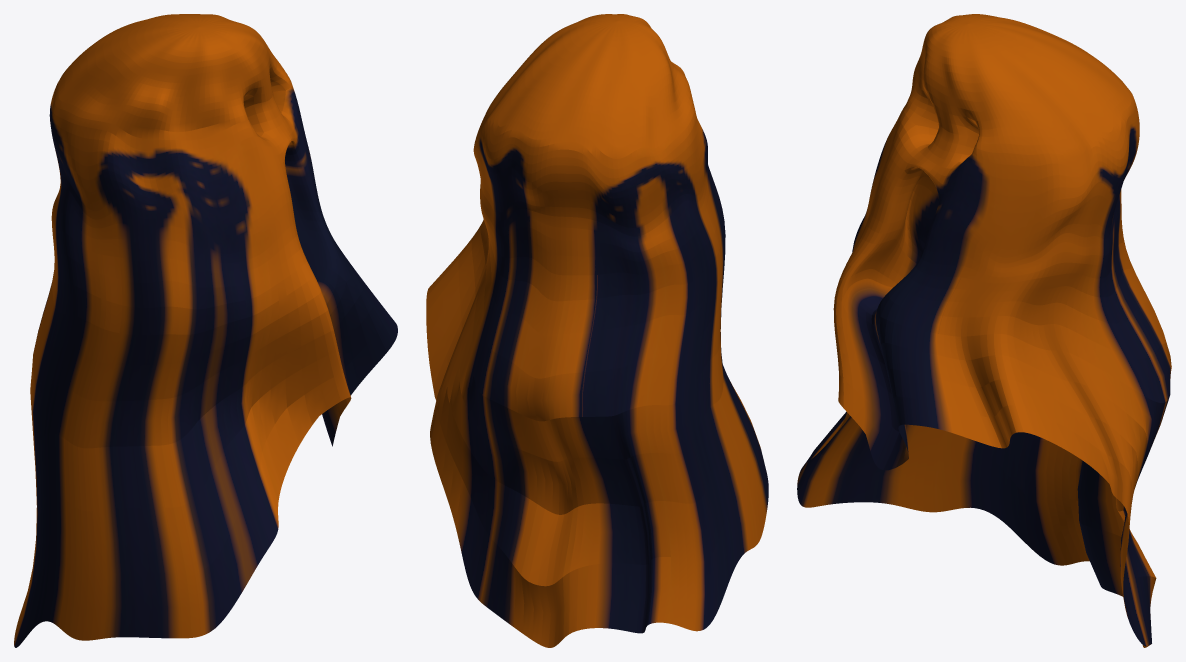
The model's file is ghost8.obj.
3 renders of one model, left to right at view 1: azimuth 30°, elevation 25°; view 2: azimuth 150°, elevation 25°; view 3: azimuth 270°, elevation 25°, orthographic. The views are drawn at different scales.
Parts seen in each view (by area): view 1: 球体; view 2: 球体; view 3: 球体.
Boxes of the visible parts, x1,y1,x2,y2 form: 球体: (14,14,397,647); 球体: (426,14,768,647); 球体: (797,14,1171,647).
Bounding box in the file's own units: 8.62 × 15.89 × 8.61.
1 material, 1 textured.
